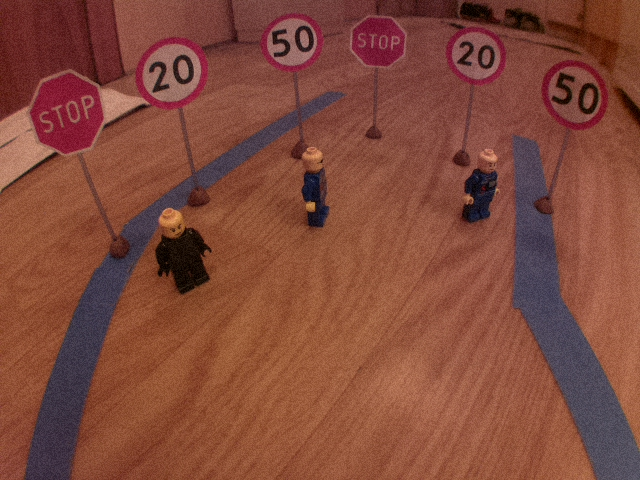LEGO_person: (151, 206, 220, 300), (459, 145, 506, 227), (298, 144, 336, 230)
ogr_20: (132, 35, 212, 111), (444, 25, 507, 89)
ogr_50: (535, 55, 611, 136), (259, 10, 326, 75)
stop: (28, 66, 111, 160), (345, 12, 410, 72)
